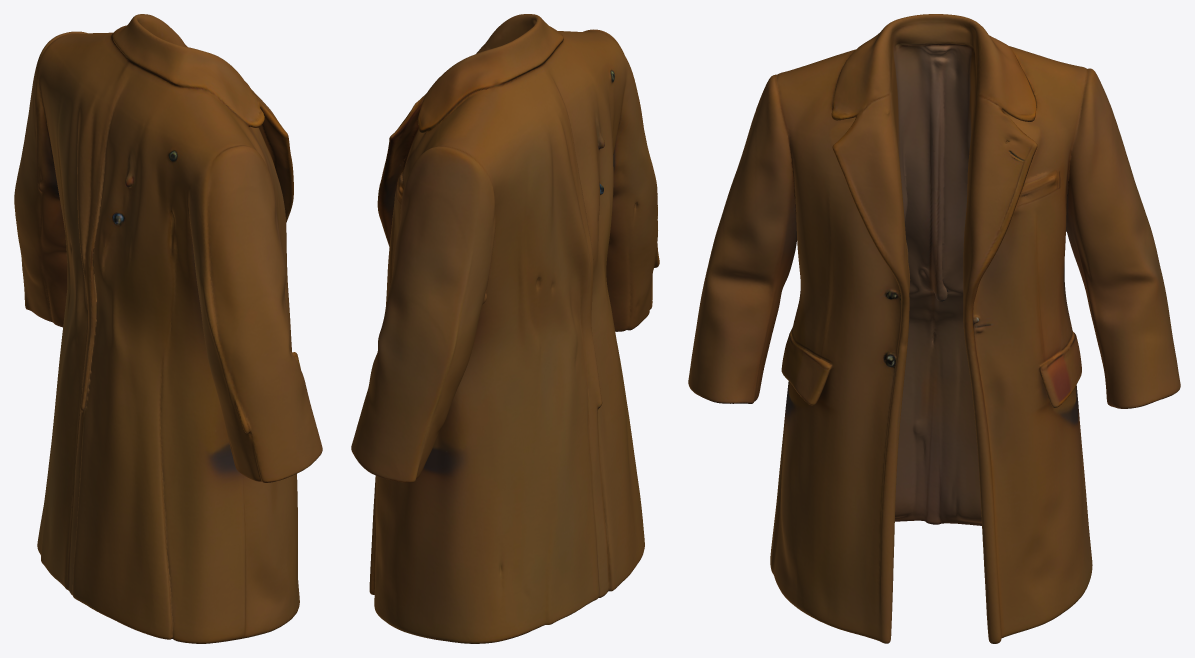
Rendered from stranger_coat.glb.
The picture shows the model from 3 angles, left to right: view 1: azimuth 30°, elevation 25°; view 2: azimuth 150°, elevation 25°; view 3: azimuth 270°, elevation 25°; orthographic projection.
Visible parts, largest first — view 1: tripo_node_5ad11335-8f7f-487c-a19f-cec197467f81; view 2: tripo_node_5ad11335-8f7f-487c-a19f-cec197467f81; view 3: tripo_node_5ad11335-8f7f-487c-a19f-cec197467f81.
Part boxes in pixels (bbox=[...]): tripo_node_5ad11335-8f7f-487c-a19f-cec197467f81: bbox=[14, 14, 322, 643]; tripo_node_5ad11335-8f7f-487c-a19f-cec197467f81: bbox=[351, 14, 659, 643]; tripo_node_5ad11335-8f7f-487c-a19f-cec197467f81: bbox=[688, 14, 1180, 643].
Size of the model in its own units: 0.3788 by 1 by 0.7836.
1 material, 1 textured.
